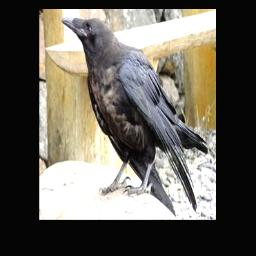Crow: (61, 15, 209, 214)
